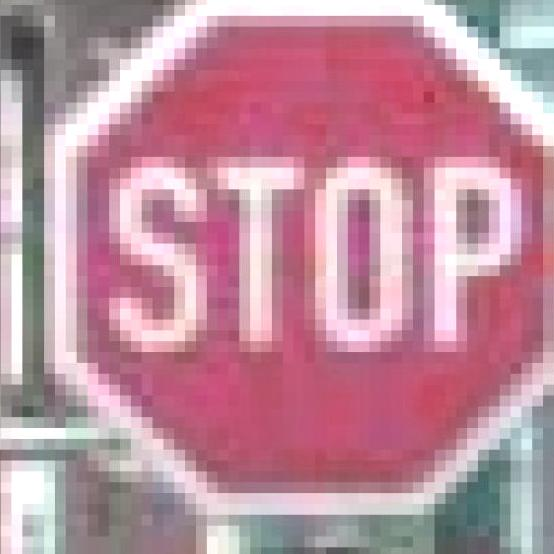stop_sign: (33, 0, 554, 526)
